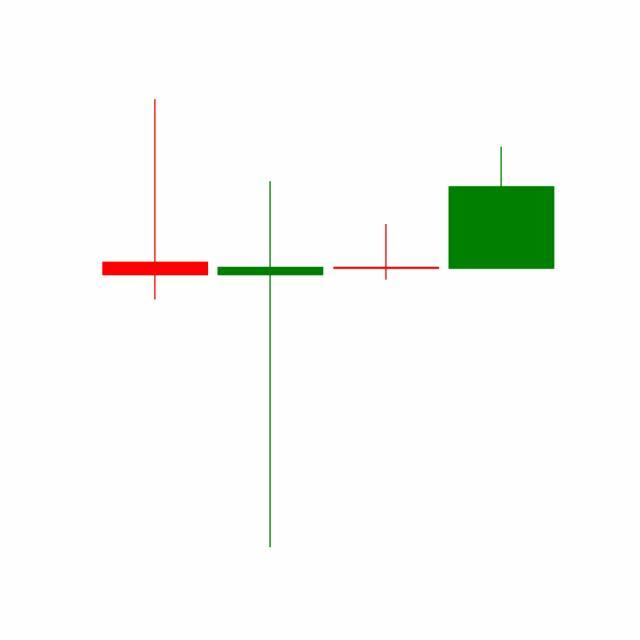Gravestone Doji: (329, 223, 445, 281)
